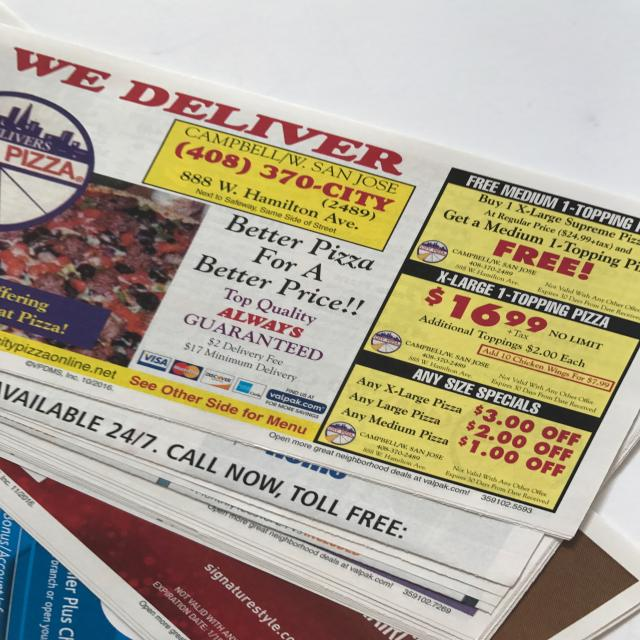paper: (1, 2, 639, 639)
